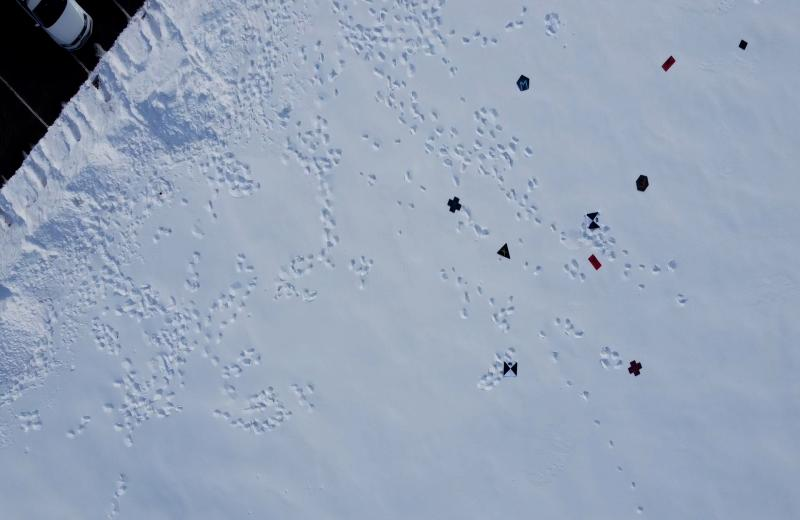Cross: (626, 360, 642, 378), (446, 196, 462, 214)
Hexagon: (635, 174, 651, 193)
Pentagon: (514, 73, 531, 93)
Rectangle: (661, 56, 677, 72), (589, 253, 602, 272)
Square: (737, 38, 750, 52)
Triangle: (496, 242, 512, 262)
